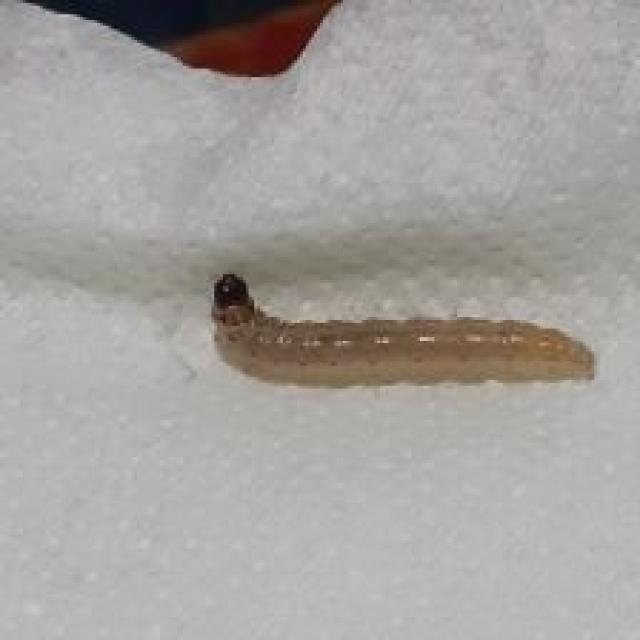white mucus: (198, 264, 616, 399)
